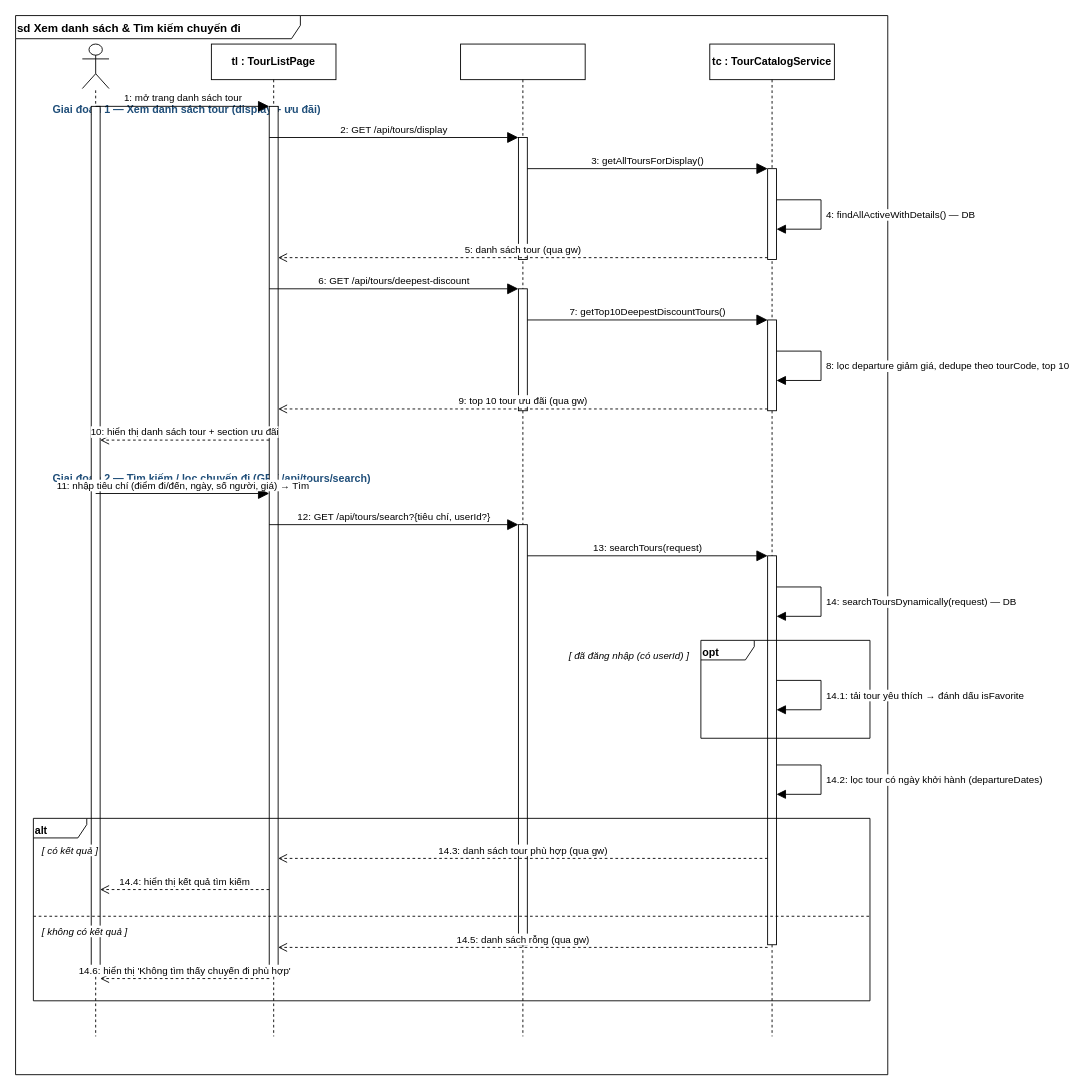
The diagram is 1085 pixels wide and 1090 high, and some of its shapes have lost their labels. The shapes that lost their labels are listed below. From the top down, each one's centre as x and y in pixels, then its label:
At point 95,66: "User".
At point 522,539: "gw : ApiGateway".
